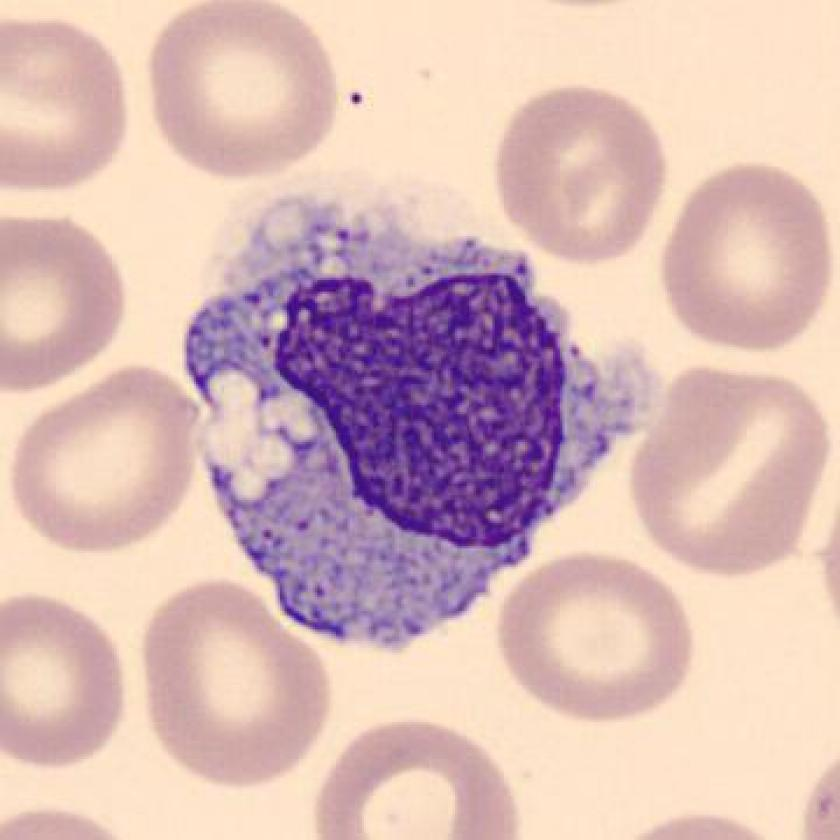monocyte: (153, 161, 675, 663)
